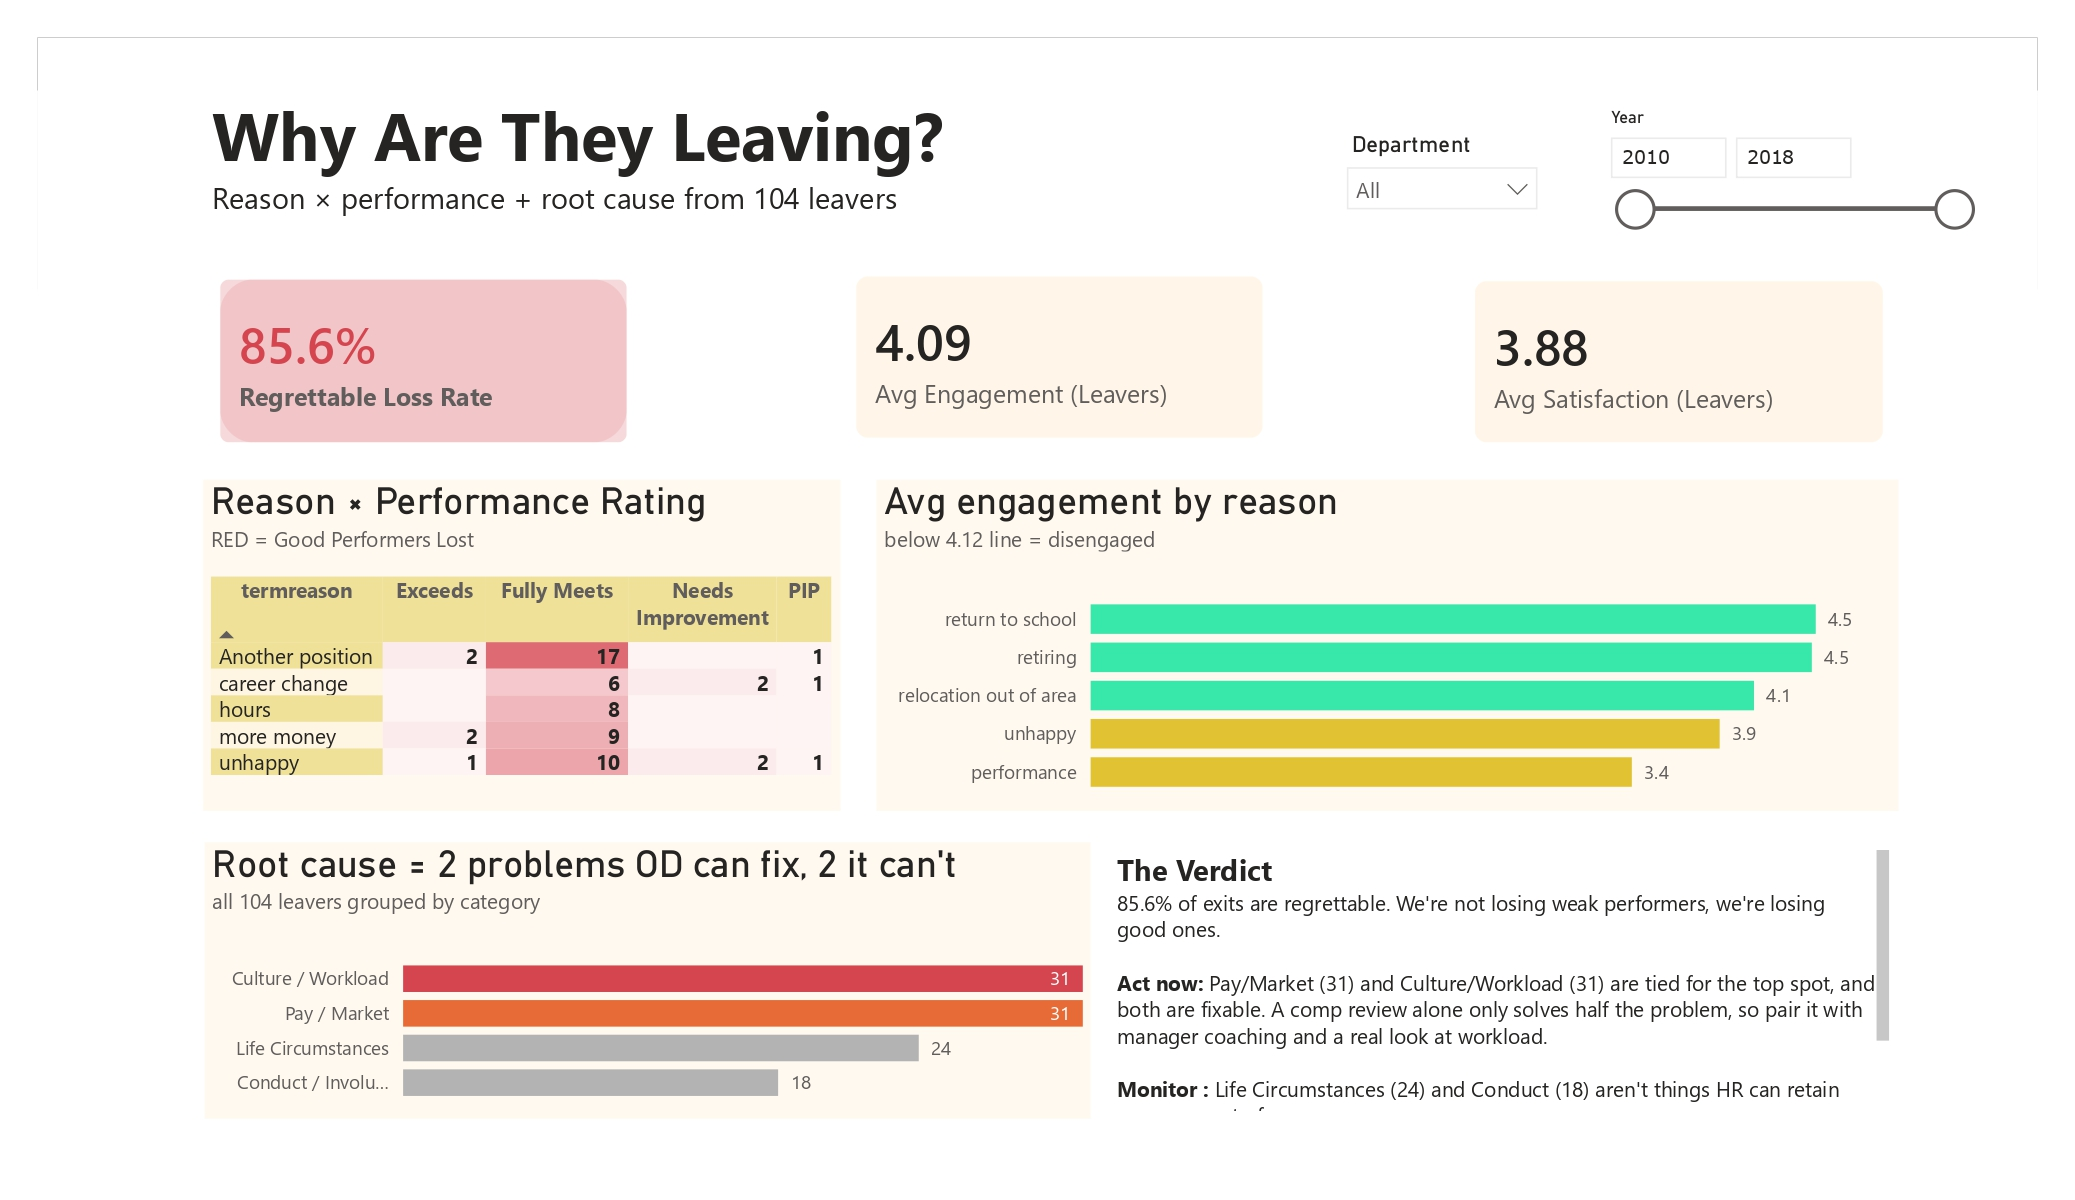

This screenshot's page, from the dashboard's own definition file:
{"tool":"powerbi","page":{"name":"Page 2","canvas":[1280,720],"ordinal":1},"visuals":[{"type":"cardVisual","title":"89 of 104 were solid performers","fields":{"Data":["public vw_reason_performance.Regrettable Loss Rate"]},"box":[106.8,145,280.3,123.9],"z":0},{"type":"cardVisual","fields":{"Data":["public vw_leaver_profile.Avg Engagement (Leavers)"]},"box":[514.1,143.4,280.3,123],"z":1000},{"type":"cardVisual","fields":{"Data":["public vw_leaver_profile.Avg Satisfaction (Leavers)"]},"box":[910.5,145.5,280.3,123.9],"z":2000},{"type":"pivotTable","title":"Reason × Performance Rating","fields":{"Columns":["public vw_reason_performance.performancescore"],"Rows":["public vw_reason_performance.termreason"],"Values":["CountNonNull(public vw_reason_performance.empid)"]},"box":[106.4,283.3,407.7,211.5],"z":3000},{"type":"clusteredBarChart","title":"Avg engagement by reason","fields":{"Category":["public vw_leaver_profile.termreason"],"Y":["public vw_leaver_profile.Avg Engagement (Leavers)"]},"box":[537.2,283.3,653.8,211.5],"z":4000},{"type":"slicer","fields":{"Values":["public vw_attrition_detail.department"]},"box":[823.7,51.1,150.2,69.7],"z":5000},{"type":"slicer","fields":{"Values":["public vw_attrition_detail.resignationyear"]},"box":[994.1,40.3,253.9,97.5],"z":6000},{"type":"clusteredBarChart","title":"Root cause = 2 problems OD can fix, 2 it can''t","fields":{"Category":["public vw_reason_performance.termcategory"],"Y":["CountNonNull(public vw_reason_performance.empid)"]},"box":[106.8,515.1,566.7,176.5],"z":7000},{"type":"textbox","box":[106.8,27.9,608.5,102.2],"z":8000},{"type":"textbox","title":"The verdict","box":[685.9,515.4,503.8,176.9],"z":9000}]}

Visuals, with their boxes on the page's 1280x720 design canvas (x1, y1, x2, y2). These are canvas units, not pixel positions in the 2075x1200 screenshot, which may show the page scaled, cropped or inside an application window:
"89 of 104 were solid performers" cardVisual: select_region(107, 145, 387, 269)
cardVisual - public vw_leaver_profile.Avg Engagement (Leavers): select_region(514, 143, 794, 266)
cardVisual - public vw_leaver_profile.Avg Satisfaction (Leavers): select_region(910, 146, 1191, 269)
"Reason × Performance Rating" pivotTable: select_region(106, 283, 514, 495)
"Avg engagement by reason" clusteredBarChart: select_region(537, 283, 1191, 495)
slicer - public vw_attrition_detail.department: select_region(824, 51, 974, 121)
slicer - public vw_attrition_detail.resignationyear: select_region(994, 40, 1248, 138)
"Root cause = 2 problems OD can fix, 2 it can''t" clusteredBarChart: select_region(107, 515, 674, 692)
textbox: select_region(107, 28, 715, 130)
"The verdict" textbox: select_region(686, 515, 1190, 692)
